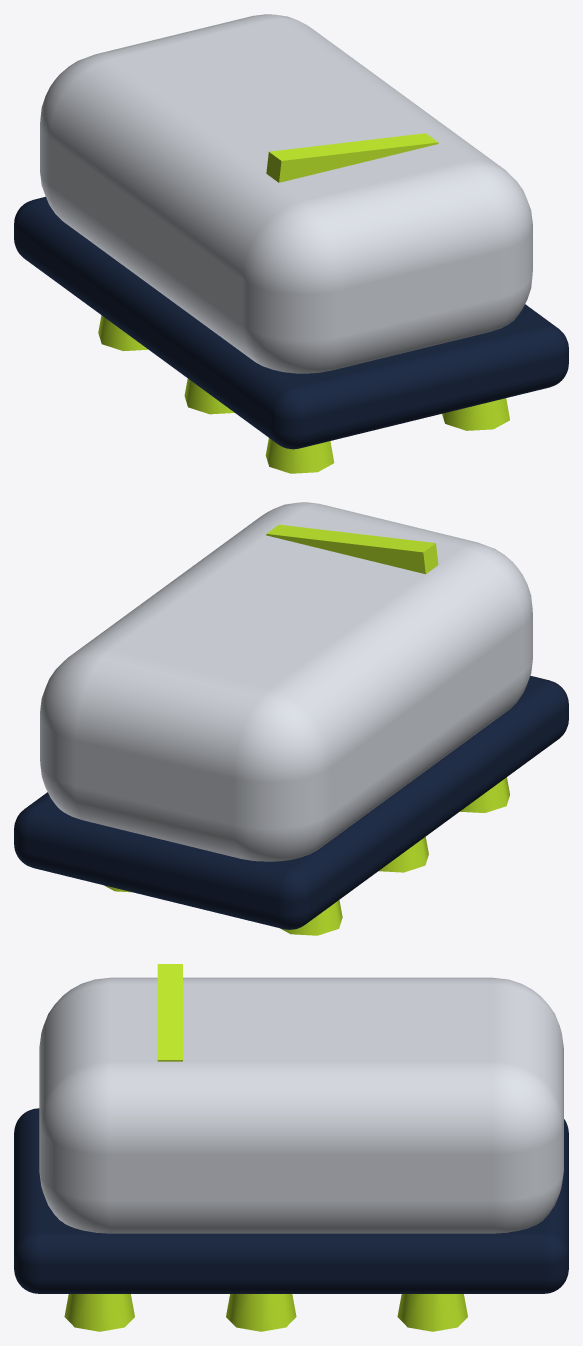
The model's file is velocity-cleats.glb.
The picture shows the model from 3 angles, top to bottom: view 1: azimuth 30°, elevation 25°; view 2: azimuth 150°, elevation 25°; view 3: azimuth 270°, elevation 25°; orthographic projection.
Visible parts, largest first — view 1: feet.velocity-cleats.upper-l, feet.velocity-cleats.sole-l, feet.velocity-cleats.studs-l, feet.velocity-cleats.lace-2-l; view 2: feet.velocity-cleats.upper-l, feet.velocity-cleats.sole-l, feet.velocity-cleats.lace-2-l, feet.velocity-cleats.studs-l; view 3: feet.velocity-cleats.upper-l, feet.velocity-cleats.sole-l, feet.velocity-cleats.studs-l, feet.velocity-cleats.lace-2-l.
Part boxes in pixels (x1,y1,x2,y2): feet.velocity-cleats.upper-l: (40,14,532,373); feet.velocity-cleats.sole-l: (14,196,568,449); feet.velocity-cleats.studs-l: (98,315,509,473); feet.velocity-cleats.lace-2-l: (266,133,438,182); feet.velocity-cleats.upper-l: (40,502,532,861); feet.velocity-cleats.sole-l: (14,675,568,929); feet.velocity-cleats.lace-2-l: (266,524,438,574); feet.velocity-cleats.studs-l: (104,777,509,935); feet.velocity-cleats.upper-l: (39,977,563,1233); feet.velocity-cleats.sole-l: (14,1108,568,1293); feet.velocity-cleats.studs-l: (64,1294,467,1331); feet.velocity-cleats.lace-2-l: (157,964,182,1061).
Bounding box in the file's own units: 0.335 × 0.2982 × 0.55.
